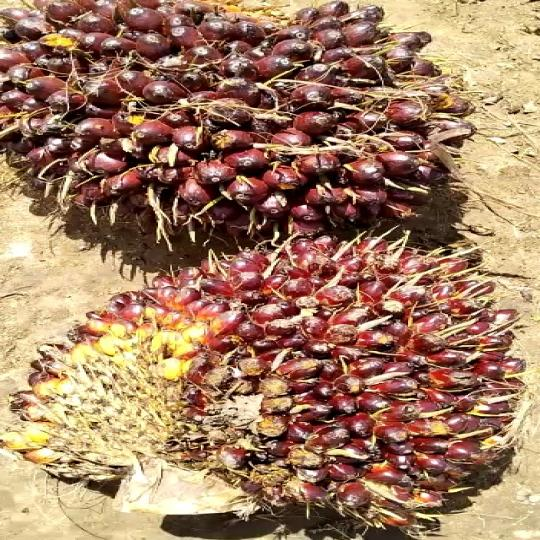kurang masak: (14, 234, 528, 540), (0, 0, 491, 243)
